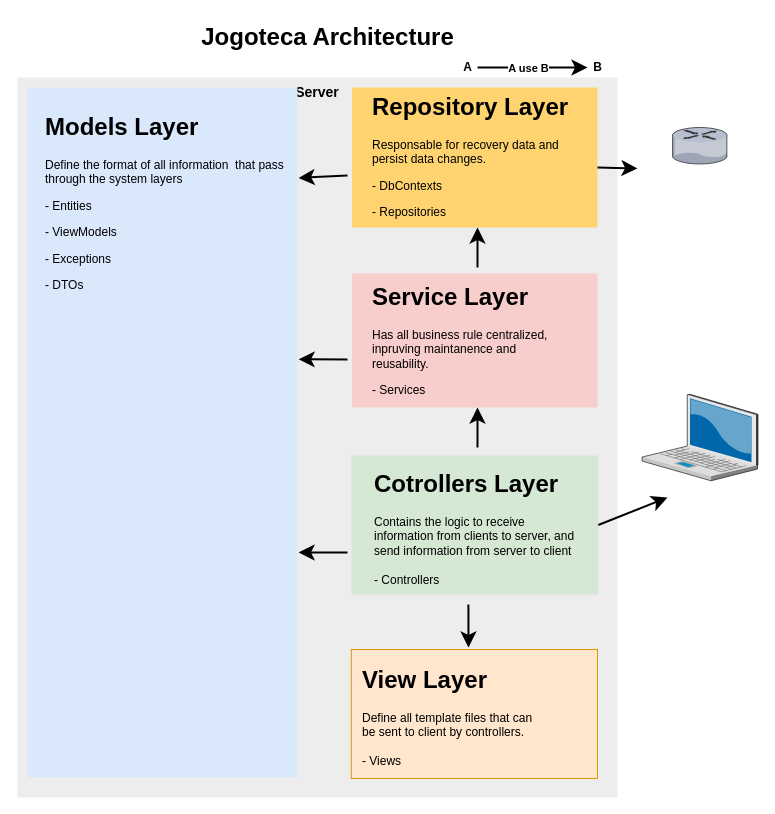
This 775x814 diagram has some shape labels left out. Each missing label, with the centre of its shape:
"Client" goes at point (700, 437).
"DataBase" goes at point (699, 145).
